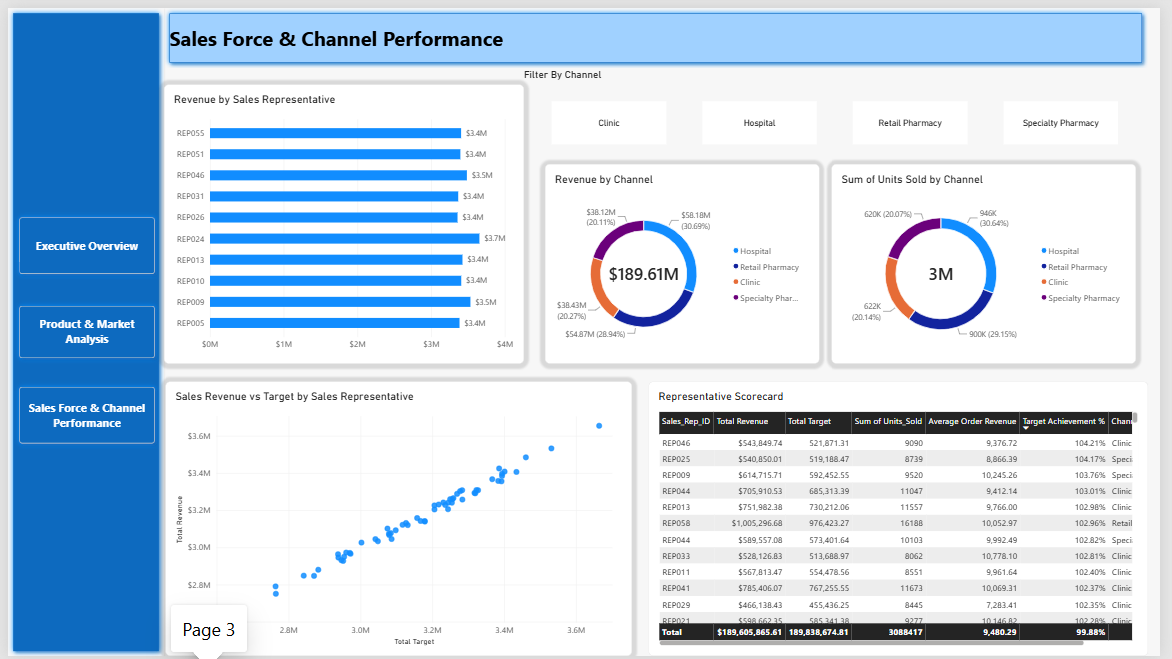

What the dashboard file says about the page in this screenshot:
{"tool":"powerbi","page":{"name":"Page 3","canvas":[1920,1080],"ordinal":2},"visuals":[{"type":"shape","box":[0,0,260.1,1080.8],"z":0},{"type":"actionButton","box":[9.5,338.8,243.4,112.1],"z":1000},{"type":"actionButton","box":[9.5,486.7,243.4,105],"z":2000},{"type":"actionButton","box":[9.5,622.7,243.4,112.1],"z":3000},{"type":"shape","box":[260.1,0,1639.1,100.2],"z":3001},{"type":"clusteredBarChart","title":"Revenue by Sales Representative","fields":{"Category":["Pharma_Analytics.Sales_Rep_ID"],"Y":["Measures (2).Total Revenue"]},"box":[260,127.5,600,465],"z":3002},{"type":"donutChart","title":"Revenue by Channel","fields":{"Category":["Pharma_Analytics.Channel"],"Y":["Measures (2).Total Revenue"]},"box":[895,260,457.5,332.5],"z":3003},{"type":"scatterChart","title":"Sales Revenue vs Target by Sales Representative","fields":{"Category":["Pharma_Analytics.Sales_Rep_ID"],"X":["Measures (2).Total Target"],"Y":["Measures (2).Total Revenue"]},"box":[262.5,622.5,777.5,457.5],"z":3004},{"type":"tableEx","title":"Representative Scorecard","fields":{"Values":["Pharma_Analytics.Sales_Rep_ID","Measures (2).Total Revenue","Measures (2).Total Target","Sum(Pharma_Analytics.Units_Sold)","Measures (2).Average Order Revenue","Measures (2).Target Achievement %","Pharma_Analytics.Channel"]},"box":[1067.5,622.5,832.5,457.5],"z":3005},{"type":"donutChart","title":"Sum of Units Sold by Channel","fields":{"Category":["Pharma_Analytics.Channel"],"Y":["Sum(Pharma_Analytics.Units_Sold)"]},"box":[1372.5,260,507.5,332.5],"z":3006},{"type":"advancedSlicerVisual","title":"Filter By Channel","fields":{"Values":["Pharma_Analytics.Channel"]},"box":[860,100,1039,150],"z":3007}]}

Visuals, with their boxes on the page's 1920x1080 design canvas (x1, y1, x2, y2). These are canvas units, not pixel positions in the 1172x659 screenshot, which may show the page scaled, cropped or inside an application window:
shape: 0/0/260/1081
actionButton: 10/339/253/451
actionButton: 10/487/253/592
actionButton: 10/623/253/735
shape: 260/0/1899/100
"Revenue by Sales Representative" clusteredBarChart: 260/128/860/592
"Revenue by Channel" donutChart: 895/260/1352/592
"Sales Revenue vs Target by Sales Representative" scatterChart: 262/622/1040/1080
"Representative Scorecard" tableEx: 1068/622/1900/1080
"Sum of Units Sold by Channel" donutChart: 1372/260/1880/592
"Filter By Channel" advancedSlicerVisual: 860/100/1899/250
